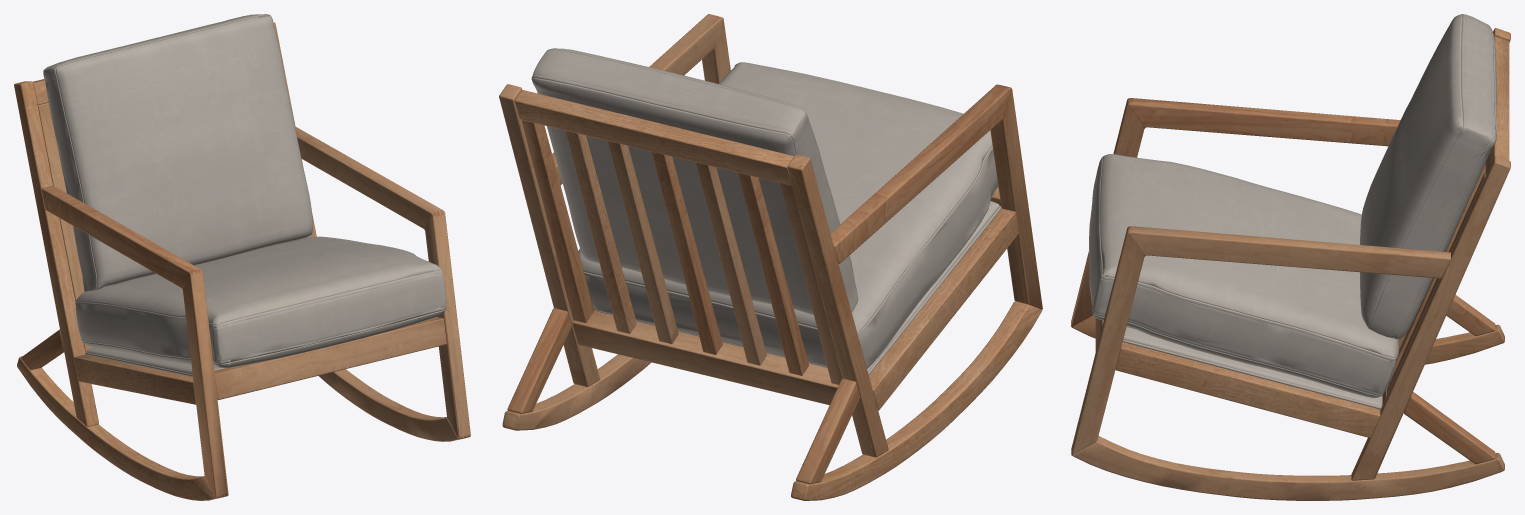
The model's file is rocking_chair_abo_B07QDL43KZ.glb.
3 renders of one model, left to right at view 1: azimuth 30°, elevation 25°; view 2: azimuth 150°, elevation 25°; view 3: azimuth 270°, elevation 25°, orthographic. The views are drawn at different scales.
Parts seen in each view (by area): view 1: B07QDL43KZ; view 2: B07QDL43KZ; view 3: B07QDL43KZ.
Boxes of the visible parts, x1,y1,x2,y2 form: B07QDL43KZ: [14, 14, 470, 500]; B07QDL43KZ: [499, 14, 1042, 500]; B07QDL43KZ: [1071, 14, 1510, 500].
Size of the model in its own units: 0.6223 by 0.79 by 0.8572.
1 material, 1 textured.
